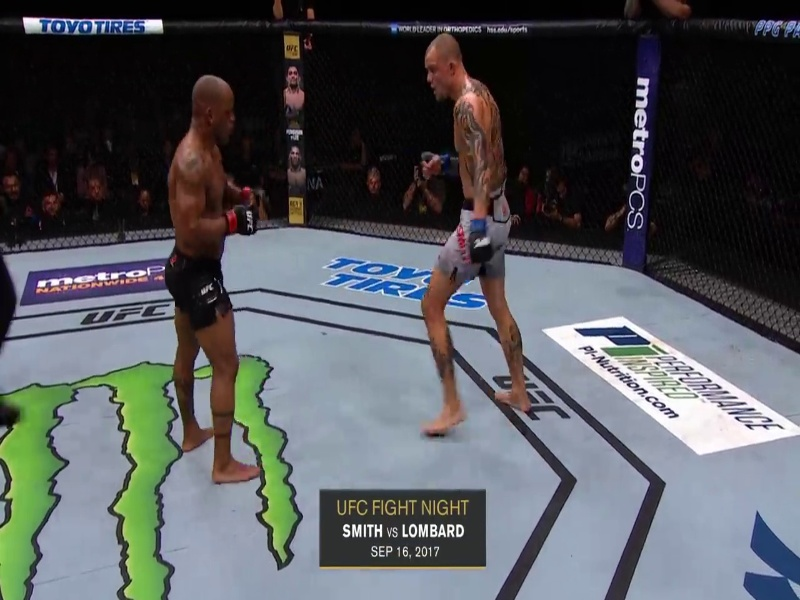fighter: (363, 30, 558, 447), (144, 69, 286, 494)
